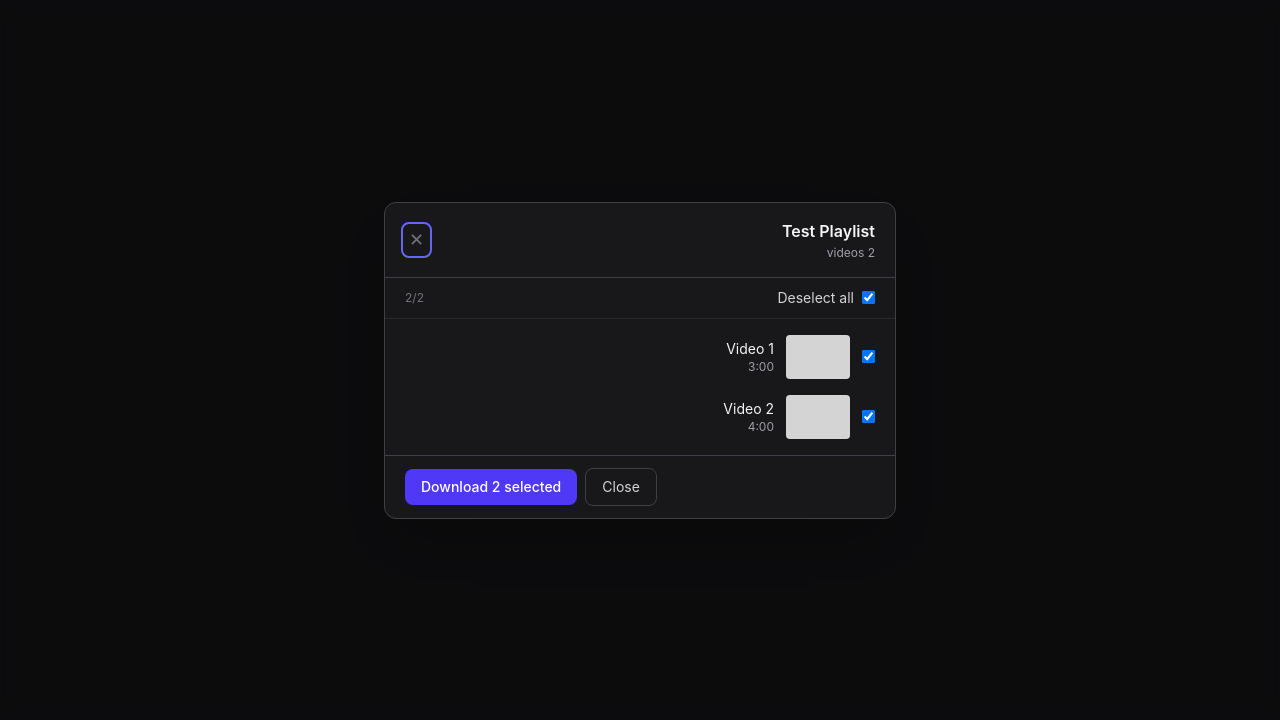
Test: PlaylistModal › download button is disabled when nothing selected
The image size is (1280, 720).
Note: deselect all
Click the checkbox labelled "Deselect all" at (868, 298), box [862,291,875,304]
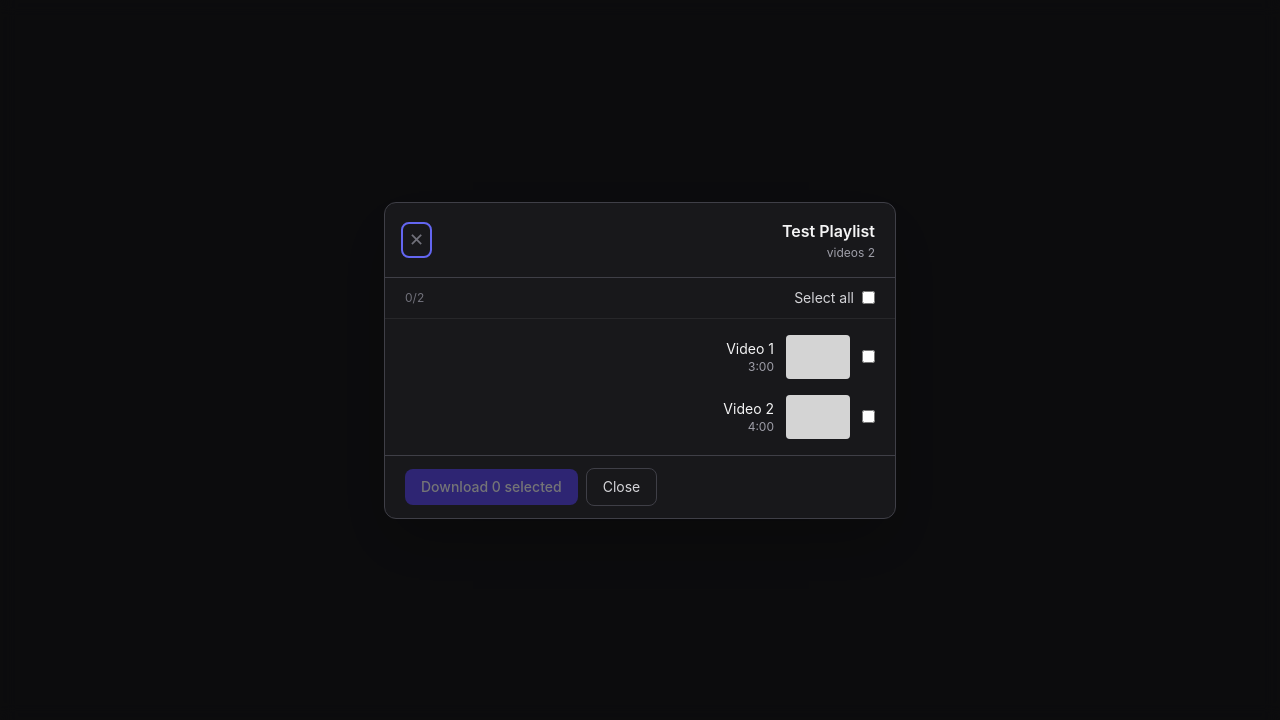
Now the button "Download 0 selected" is disabled, box [405,468,578,504]
